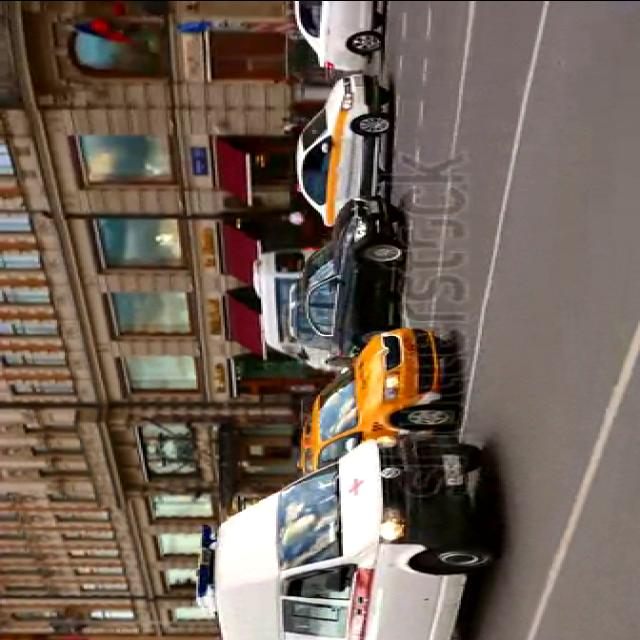ambulance: (192, 435, 500, 639)
